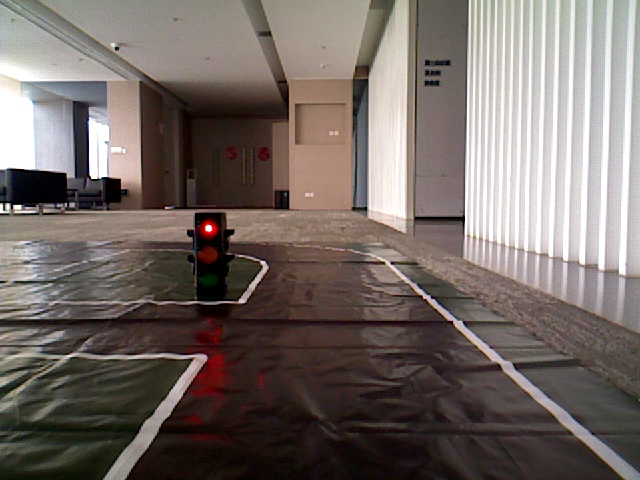red: (192, 215, 225, 282)
